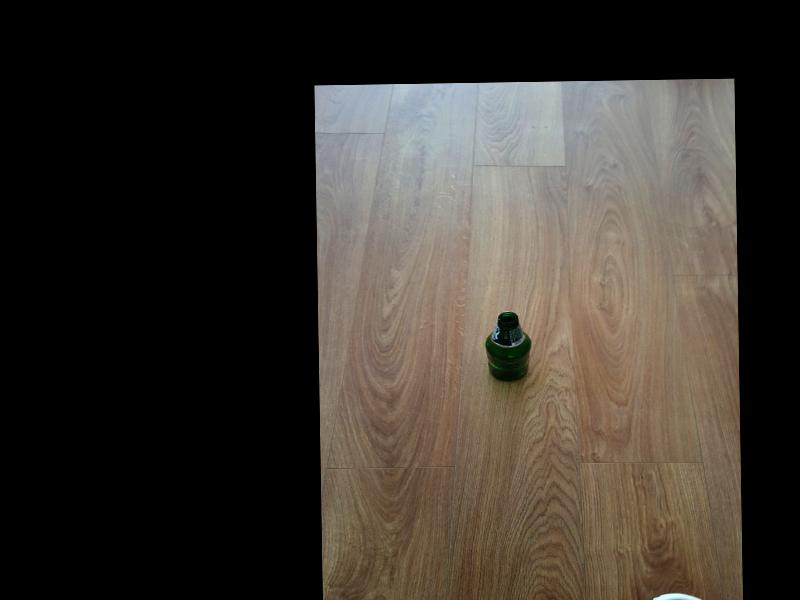Beer: (486, 311, 534, 382)
